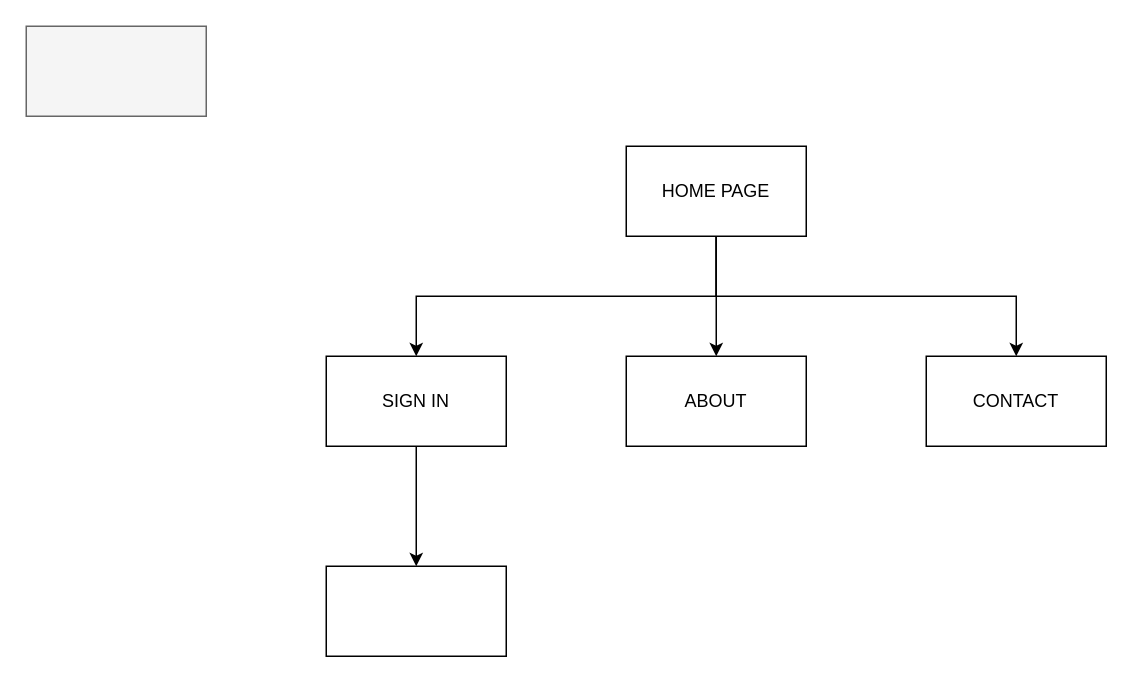
The diagram is 1133 pixels wide and 683 high, and some of its shapes have lost their labels. Here are the shapes that lost their labels. From the top down, the centre of each, then its label:
the point at 115,70: UNAUTHENTICATED USER
the point at 415,610: SIGN UP
